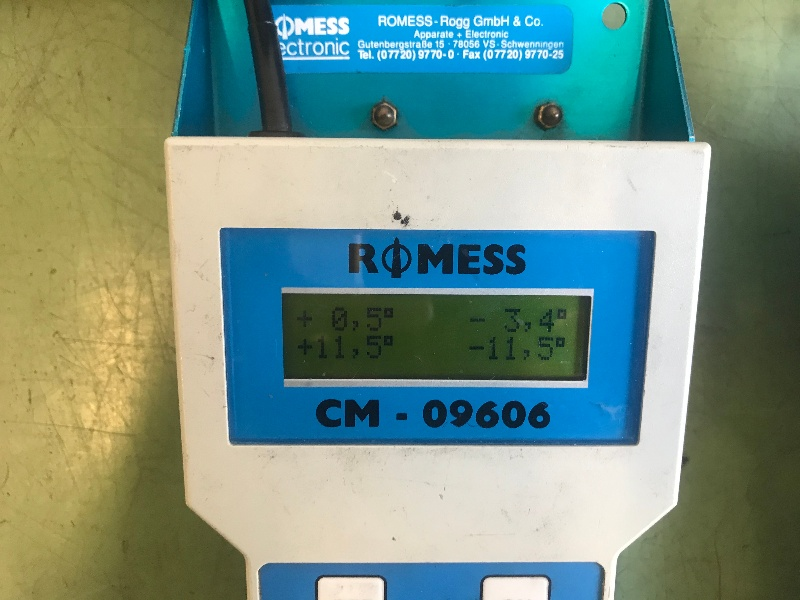ins_two: (220, 227, 655, 451)
